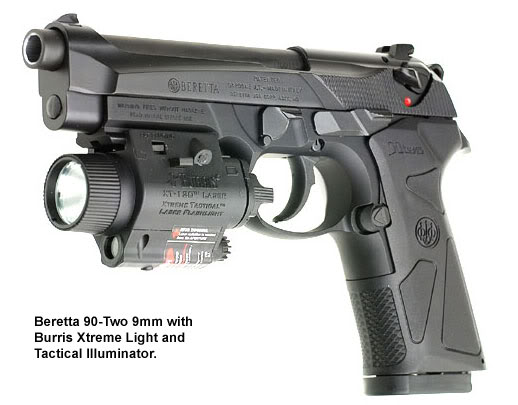gun: (12, 8, 495, 400)
